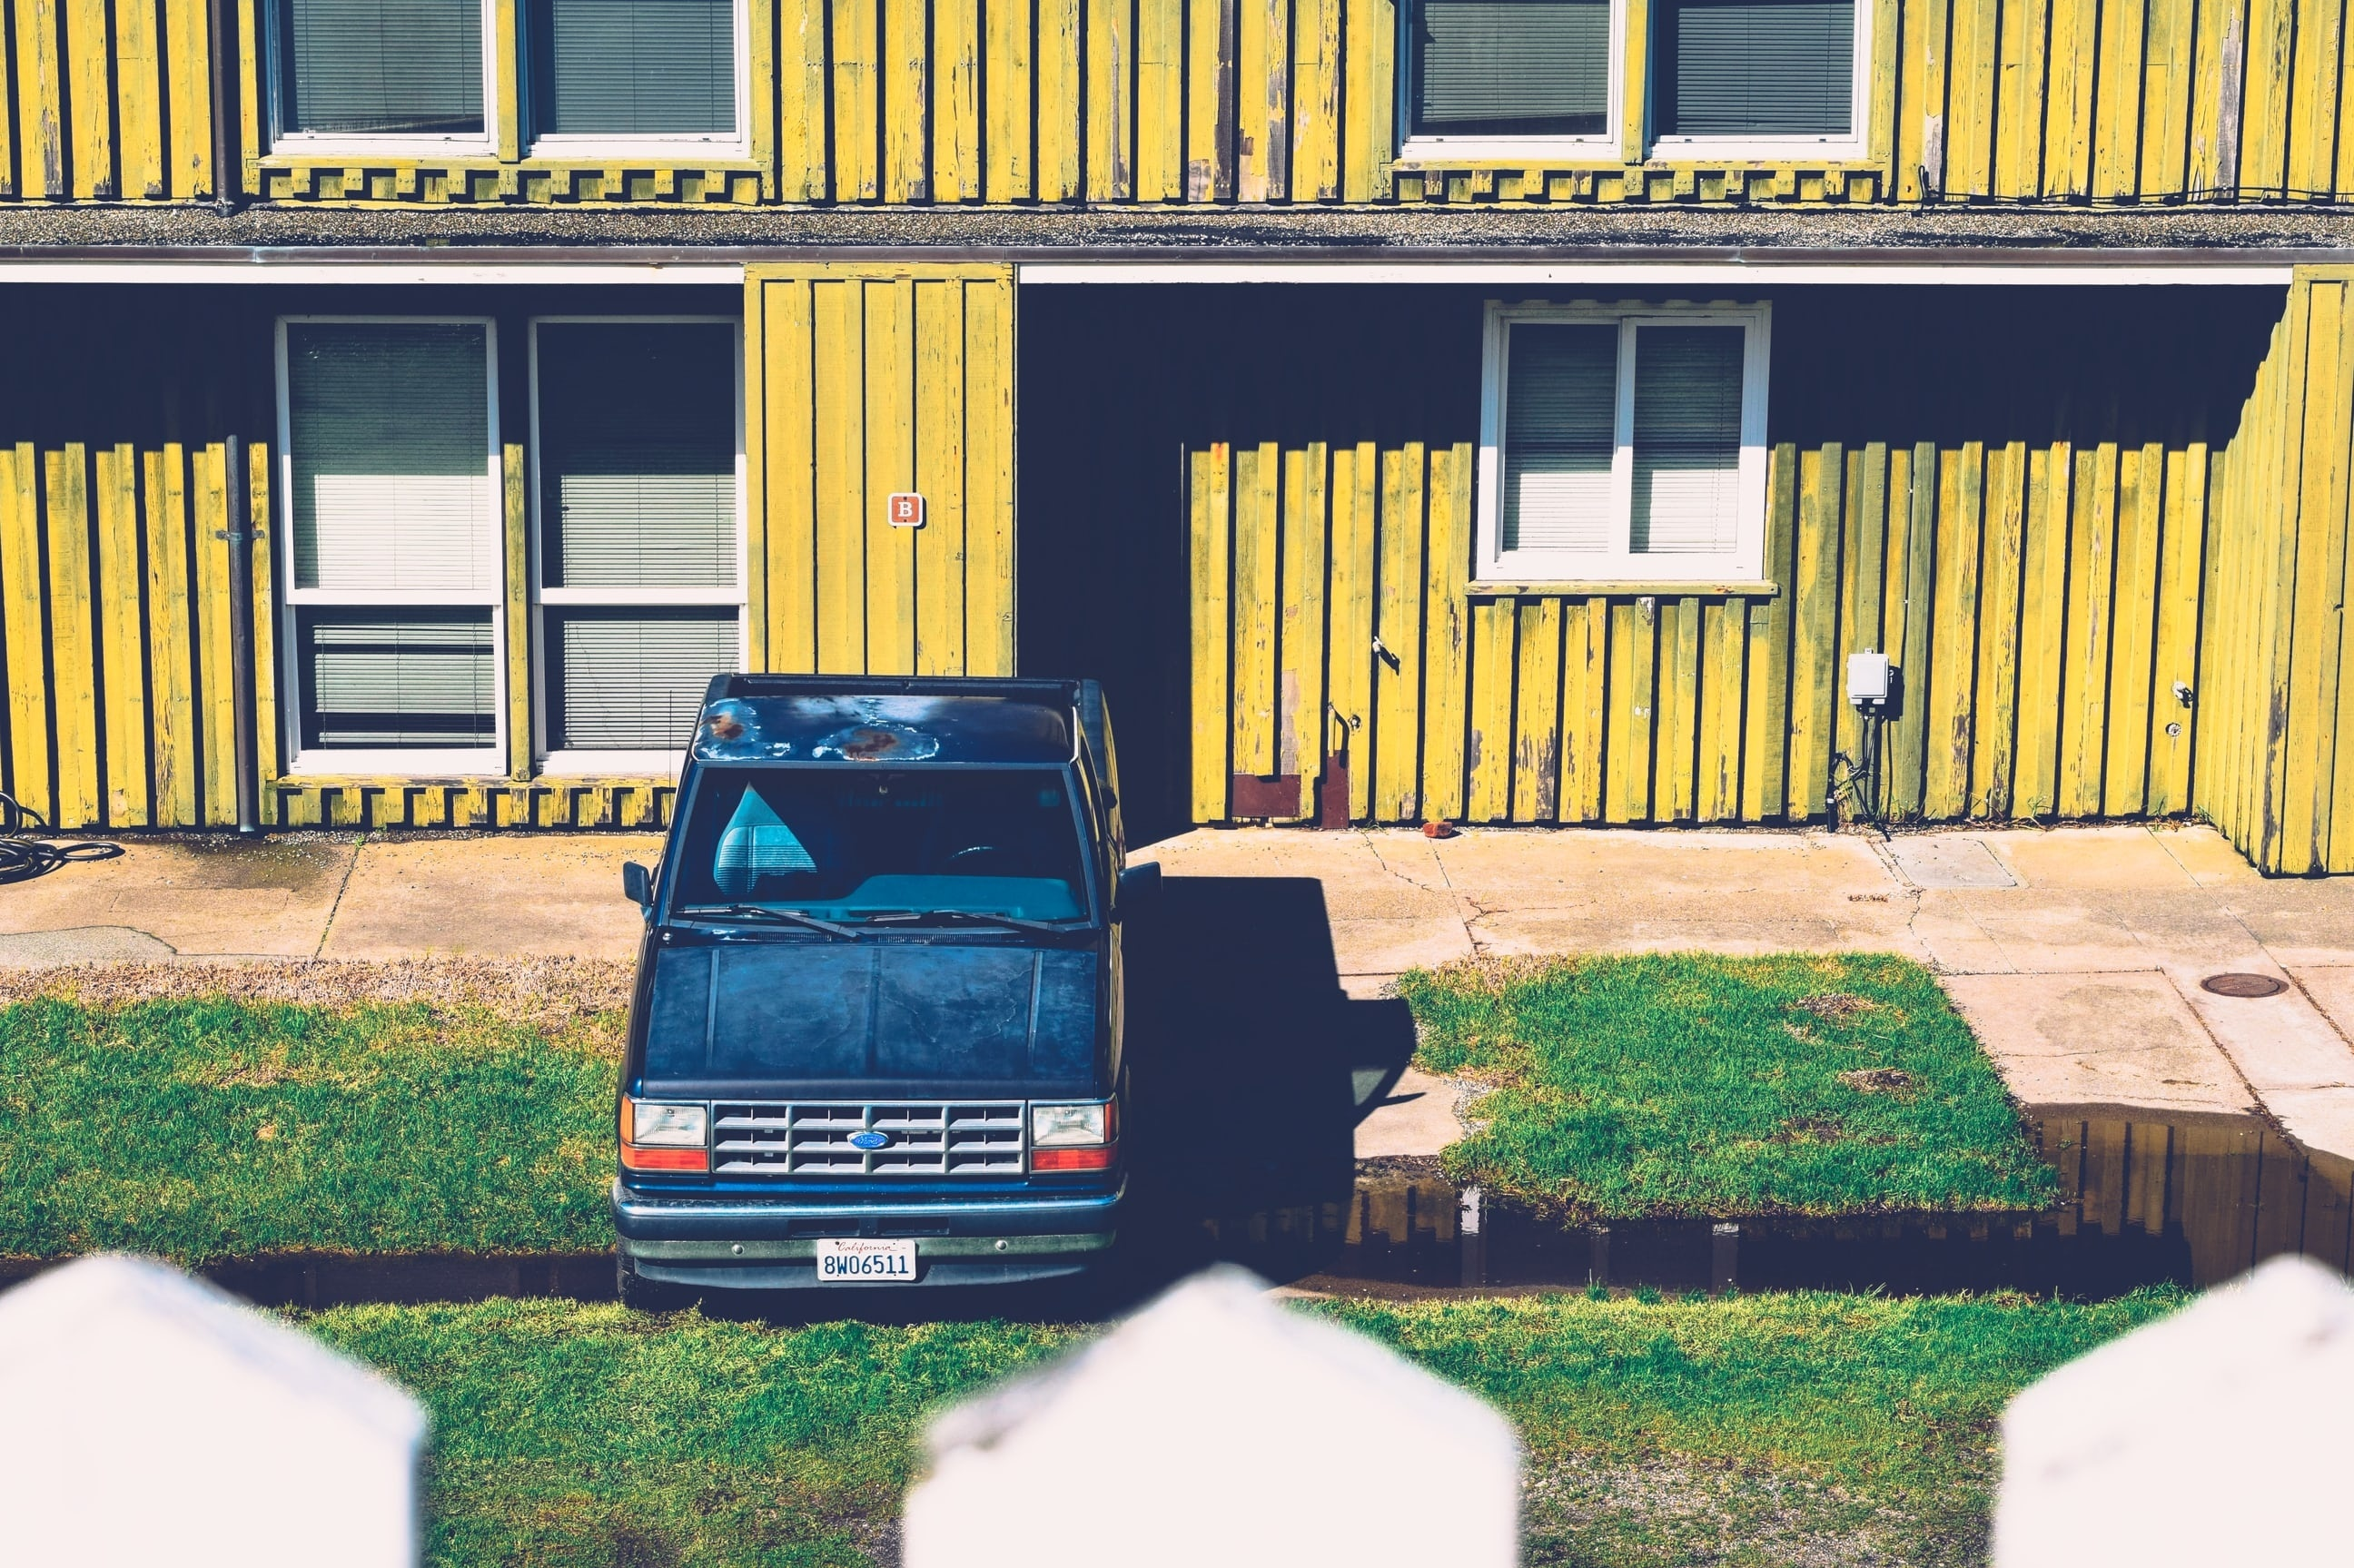plaka: (816, 1237, 918, 1282)
